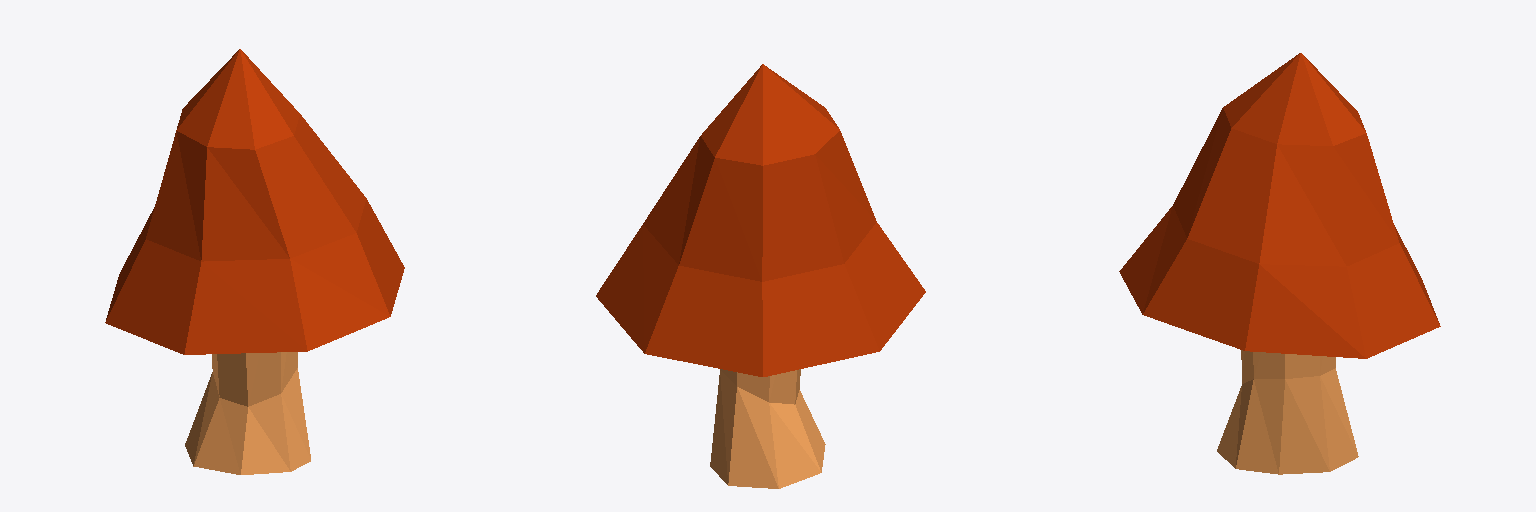
Rendered from mushroom9.obj.
3 views of the same model, side by side, from view 1: azimuth 30°, elevation 25°; view 2: azimuth 150°, elevation 25°; view 3: azimuth 270°, elevation 25° (orthographic).
Visible parts, largest first — view 1: Mushroom4_1_Cylinder.054; view 2: Mushroom4_1_Cylinder.054; view 3: Mushroom4_1_Cylinder.054.
Part boxes in pixels (left/top/right/bottom): Mushroom4_1_Cylinder.054: left=105, top=49, right=404, bottom=474; Mushroom4_1_Cylinder.054: left=596, top=64, right=925, bottom=488; Mushroom4_1_Cylinder.054: left=1119, top=53, right=1440, bottom=474.
Bounding box in the file's own units: 0.6493 × 0.9497 × 0.688.